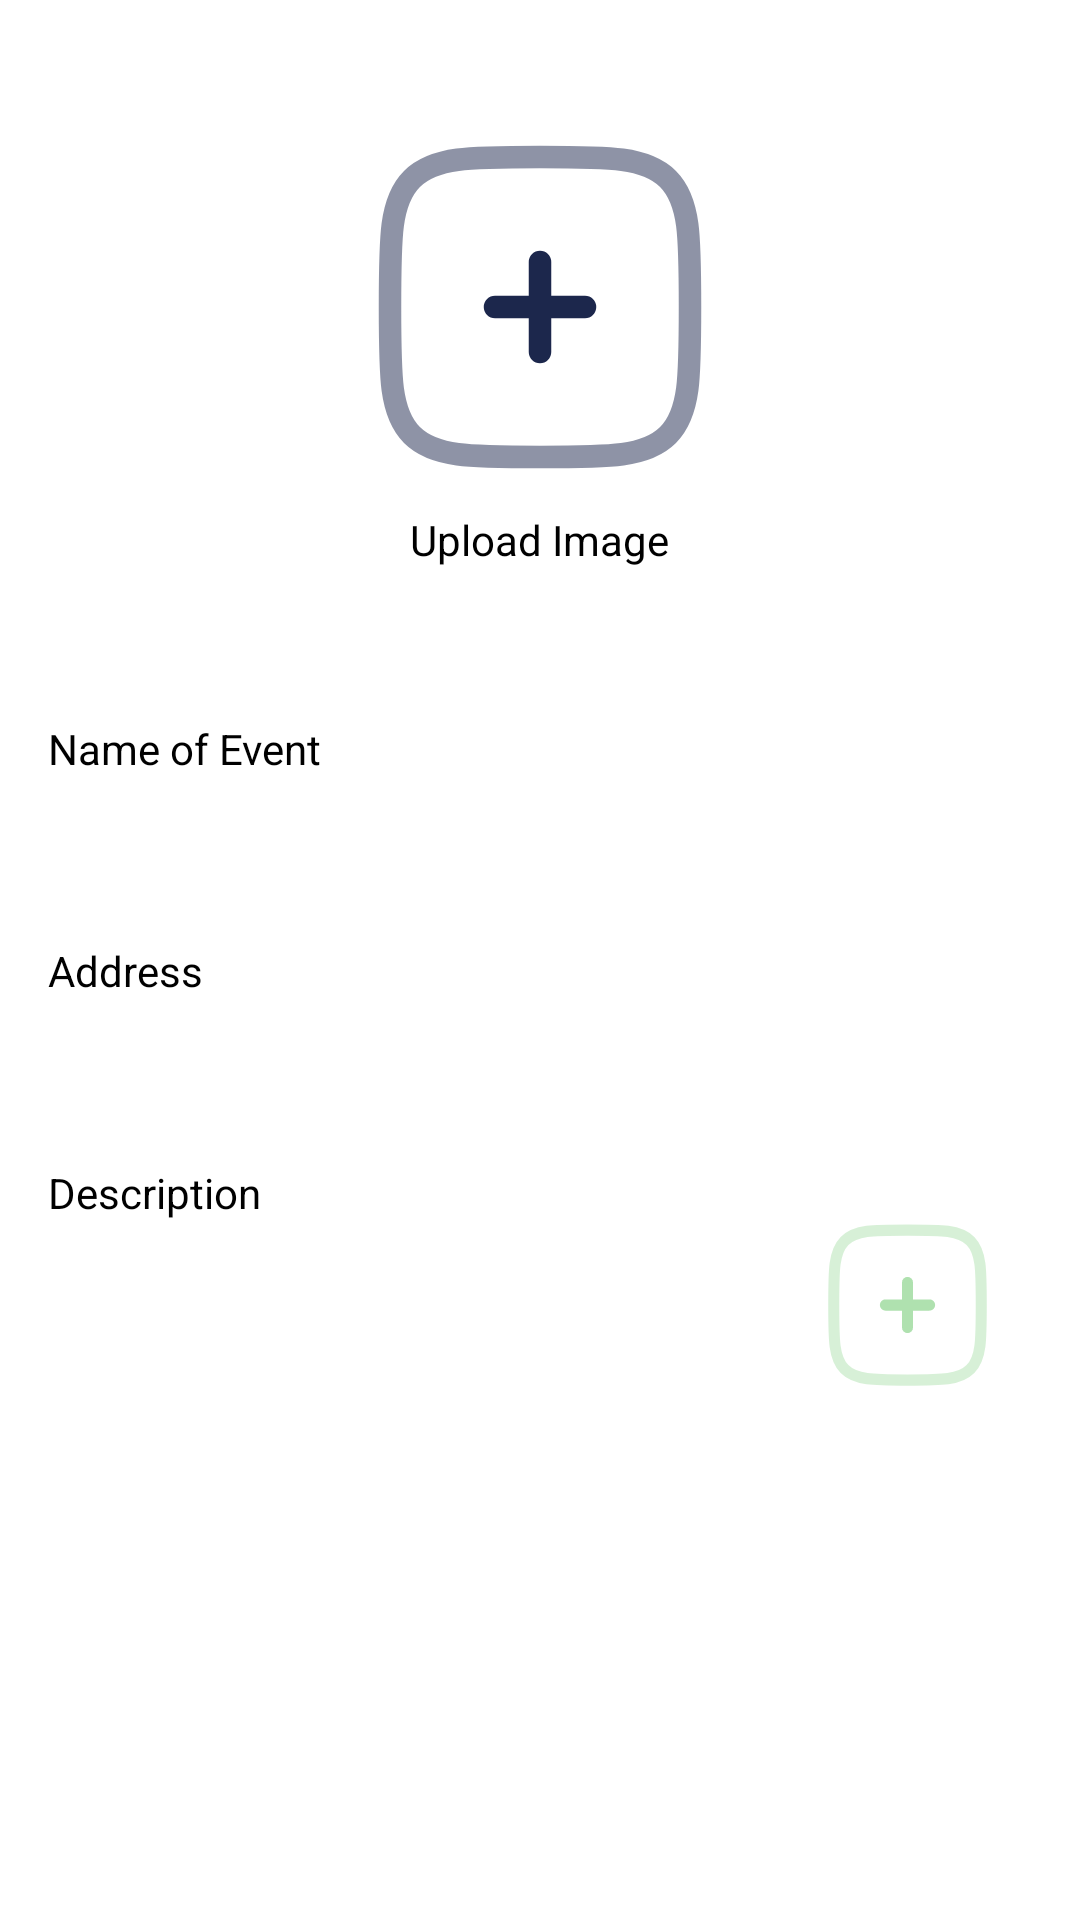

Icon click points for this 1080px×1920px phone screenshot, format point (x, y):
add square: point (907, 1305)
